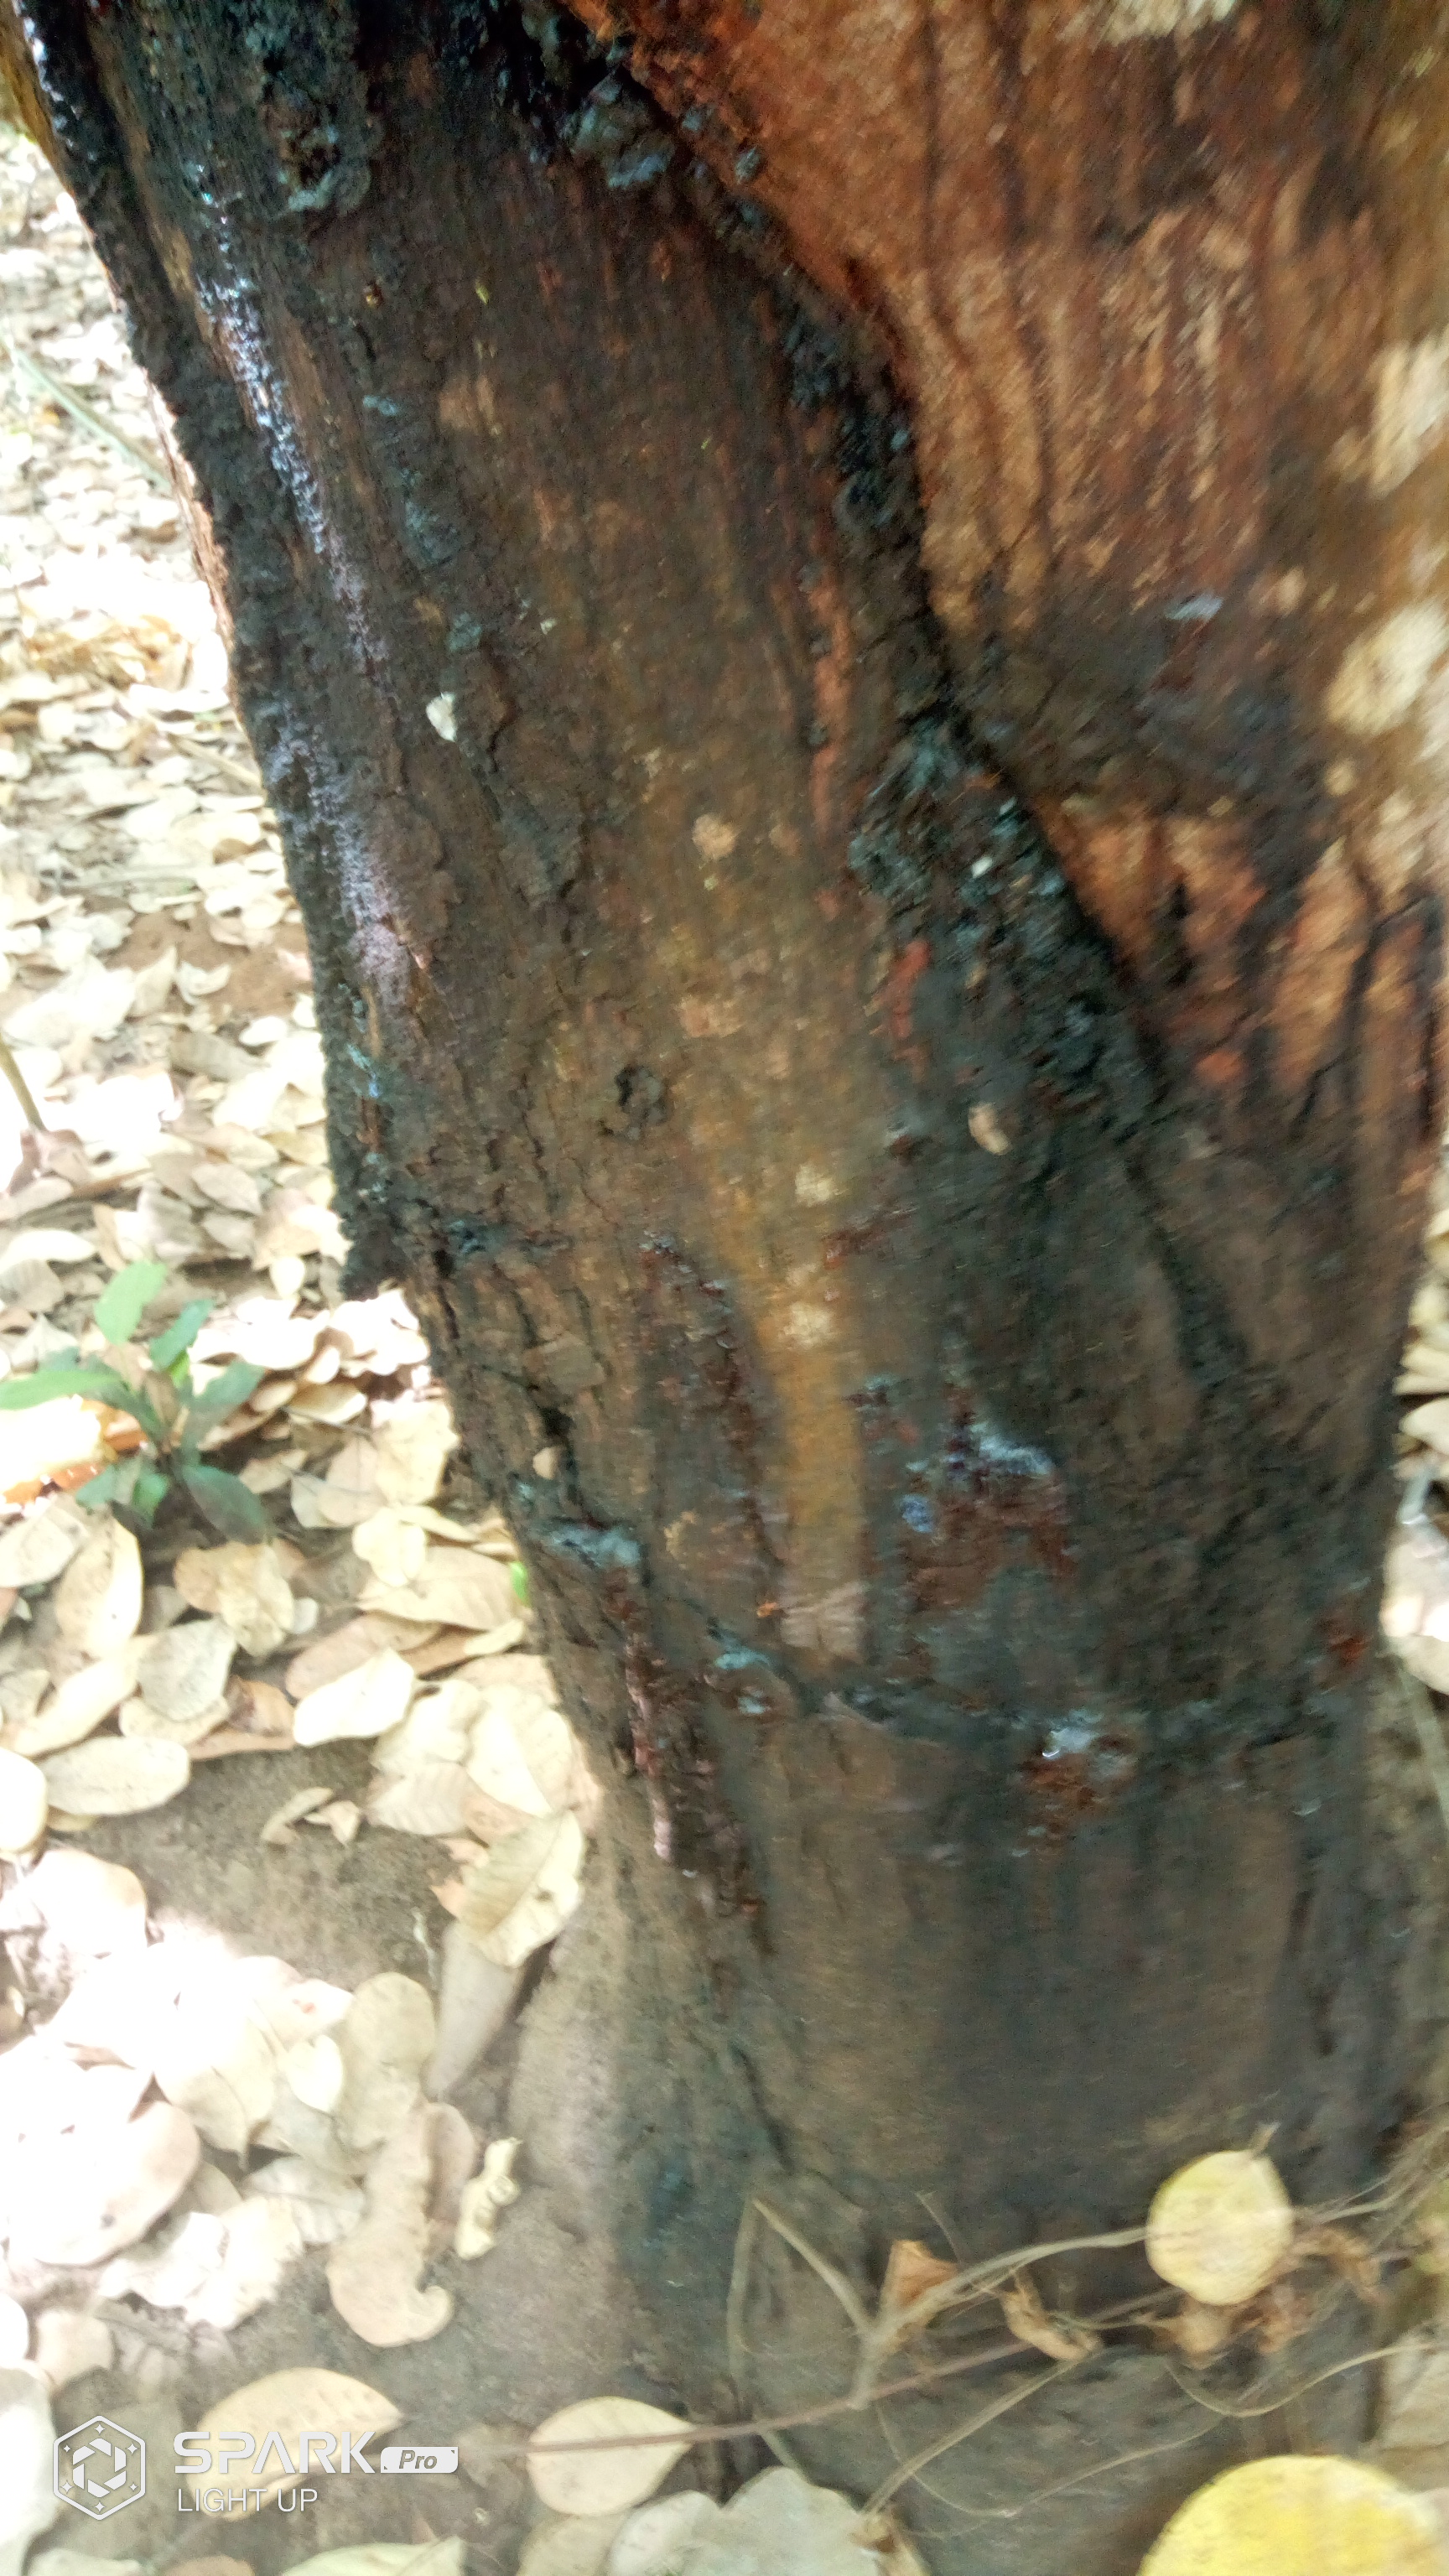Gommose: (212, 62, 1428, 1867)
